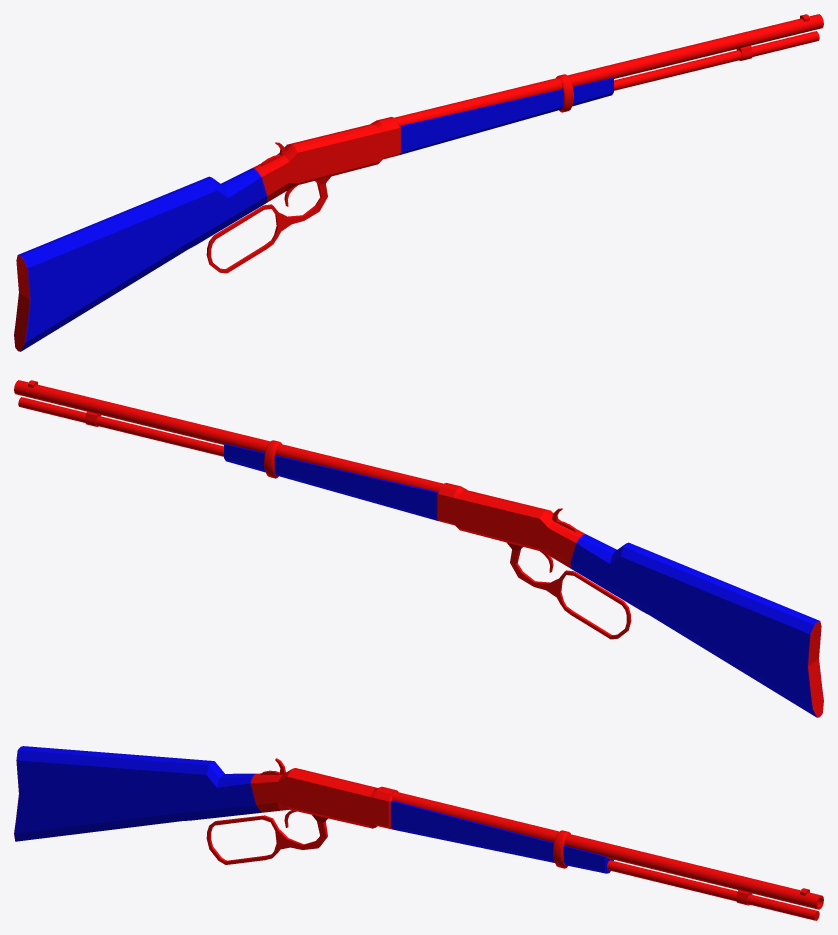
File: Winchester.fbx
3 views of the same model, one above another, from view 1: azimuth 30°, elevation 25°; view 2: azimuth 150°, elevation 25°; view 3: azimuth 330°, elevation 25° (orthographic).
Parts seen in each view (by area): view 1: pCube1, pCylinder2, pCylinder1, pCube4; view 2: pCube1, pCylinder2, pCylinder1, pCube4; view 3: pCube1, pCylinder2, pCylinder1, pCube4, pCylinder3.
Part boxes in pixels (box(x1,y1,x2,y2)): pCube1: box(14, 78, 613, 351); pCylinder2: box(394, 14, 823, 125); pCylinder1: box(614, 31, 819, 90); pCube4: box(206, 176, 331, 273); pCube1: box(224, 444, 823, 717); pCylinder2: box(14, 380, 443, 491); pCylinder1: box(18, 397, 223, 456); pCube4: box(506, 542, 631, 639); pCube1: box(14, 746, 613, 873); pCylinder2: box(392, 791, 823, 909); pCylinder1: box(607, 860, 819, 920); pCube4: box(206, 815, 327, 864); pCylinder3: box(553, 830, 570, 868).
Bounding box in the file's own units: 125 × 21.67 × 3.57.
1 material, 1 textured.
